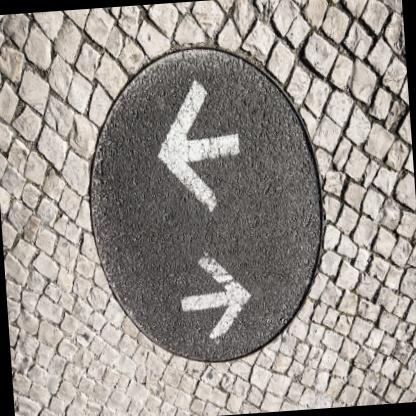manholes: (64, 1, 353, 394)
